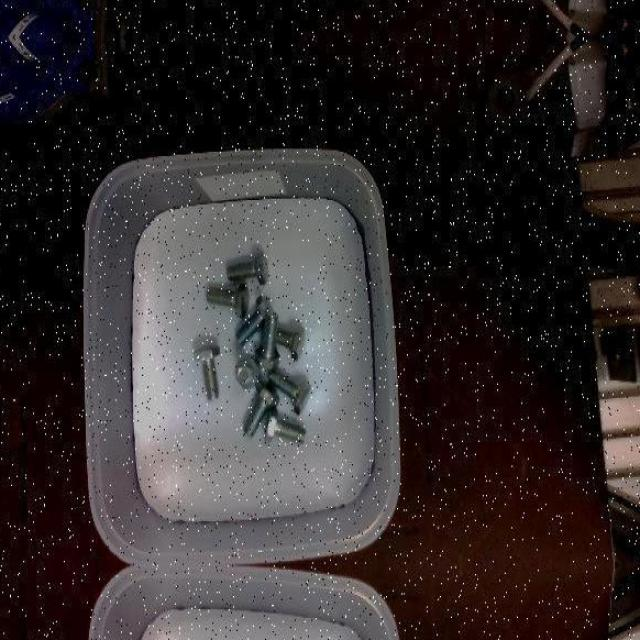screw: (243, 380, 280, 438), (270, 370, 312, 414), (265, 406, 307, 442), (255, 312, 281, 368), (195, 344, 221, 400), (207, 283, 250, 316), (228, 250, 268, 283), (235, 355, 261, 389)
